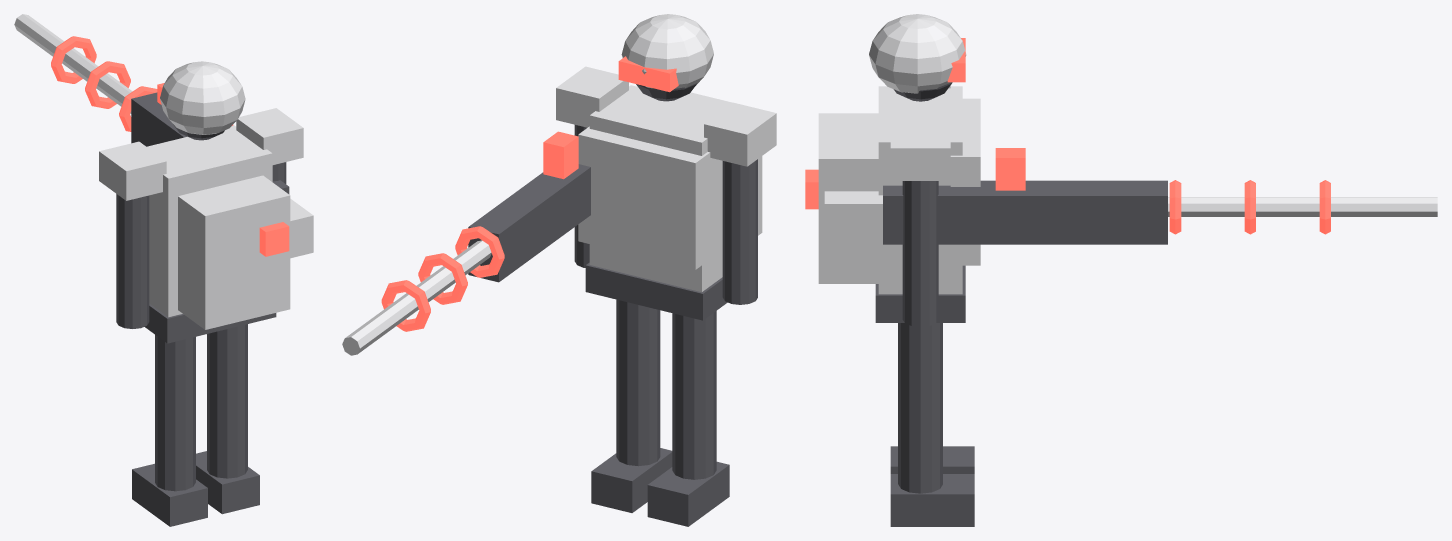
File: jp_raiden.glb
The picture shows the model from 3 angles, left to right: view 1: azimuth 30°, elevation 25°; view 2: azimuth 150°, elevation 25°; view 3: azimuth 270°, elevation 25°; orthographic projection. The views are drawn at different scales.
Visible parts, largest first — view 1: Raiden_Pack, Raiden_Torso, Raiden_LegL, Raiden_LegR, Raiden_Helmet, Raiden_ArmL, Raiden_PadL, Raiden_BootL, Raiden_PadR, Raiden_RailBarrel, Raiden_BootR, Raiden_RailBody (+6 smaller); view 2: Raiden_Chest, Raiden_Torso, Raiden_LegL, Raiden_LegR, Raiden_RailBody, Raiden_ArmL, Raiden_Helmet, Raiden_Belt, Raiden_PadL, Raiden_BootL, Raiden_RailBarrel, Raiden_BootR (+9 smaller); view 3: Raiden_RailBody, Raiden_Pack, Raiden_LegR, Raiden_Torso, Raiden_Helmet, Raiden_ArmR, Raiden_RailBarrel, Raiden_BootR, Raiden_PadR, Raiden_RailStock, Raiden_Chest, Raiden_Belt (+2 smaller).
Part boxes in pixels (left/top/right/bottom): Raiden_Pack: left=178, top=175, right=290, bottom=329; Raiden_Torso: left=147, top=125, right=272, bottom=317; Raiden_LegL: left=155, top=335, right=195, bottom=491; Raiden_LegR: left=207, top=324, right=247, bottom=478; Raiden_Helmet: left=160, top=61, right=245, bottom=134; Raiden_ArmL: left=116, top=194, right=149, bottom=328; Raiden_PadL: left=99, top=141, right=166, bottom=200; Raiden_BootL: left=132, top=463, right=207, bottom=526; Raiden_PadR: left=236, top=108, right=303, bottom=164; Raiden_RailBarrel: left=14, top=14, right=132, bottom=113; Raiden_BootR: left=196, top=451, right=259, bottom=514; Raiden_RailBody: left=131, top=92, right=289, bottom=194; Raiden_Chest: left=578, top=126, right=710, bottom=269; Raiden_Torso: left=589, top=85, right=724, bottom=292; Raiden_LegL: left=672, top=311, right=716, bottom=479; Raiden_LegR: left=616, top=299, right=660, bottom=466; Raiden_RailBody: left=468, top=164, right=590, bottom=282; Raiden_ArmL: left=722, top=159, right=757, bottom=304; Raiden_Helmet: left=621, top=14, right=713, bottom=88; Raiden_Belt: left=585, top=262, right=727, bottom=320; Raiden_PadL: left=704, top=102, right=776, bottom=166; Raiden_BootL: left=647, top=461, right=729, bottom=526; Raiden_RailBarrel: left=342, top=240, right=491, bottom=355; Raiden_BootR: left=591, top=448, right=672, bottom=512; Raiden_RailBody: left=883, top=180, right=1167, bottom=244; Raiden_Pack: left=818, top=113, right=878, bottom=283; Raiden_LegR: left=898, top=323, right=942, bottom=493; Raiden_Torso: left=878, top=86, right=962, bottom=294; Raiden_Helmet: left=869, top=14, right=966, bottom=93; Raiden_ArmR: left=902, top=181, right=938, bottom=326; Raiden_RailBarrel: left=1168, top=197, right=1437, bottom=216; Raiden_BootR: left=890, top=474, right=974, bottom=526; Raiden_PadR: left=890, top=126, right=950, bottom=180; Raiden_RailStock: left=824, top=191, right=902, bottom=244; Raiden_Chest: left=950, top=98, right=980, bottom=265; Raiden_Belt: left=875, top=265, right=965, bottom=322.
Size of the model in its own units: 0.75 by 1.78 by 2.11.
